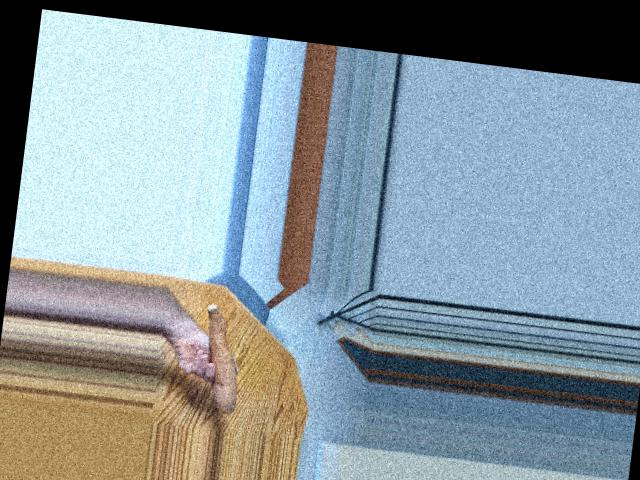sweet_potato: (193, 306, 253, 410)
